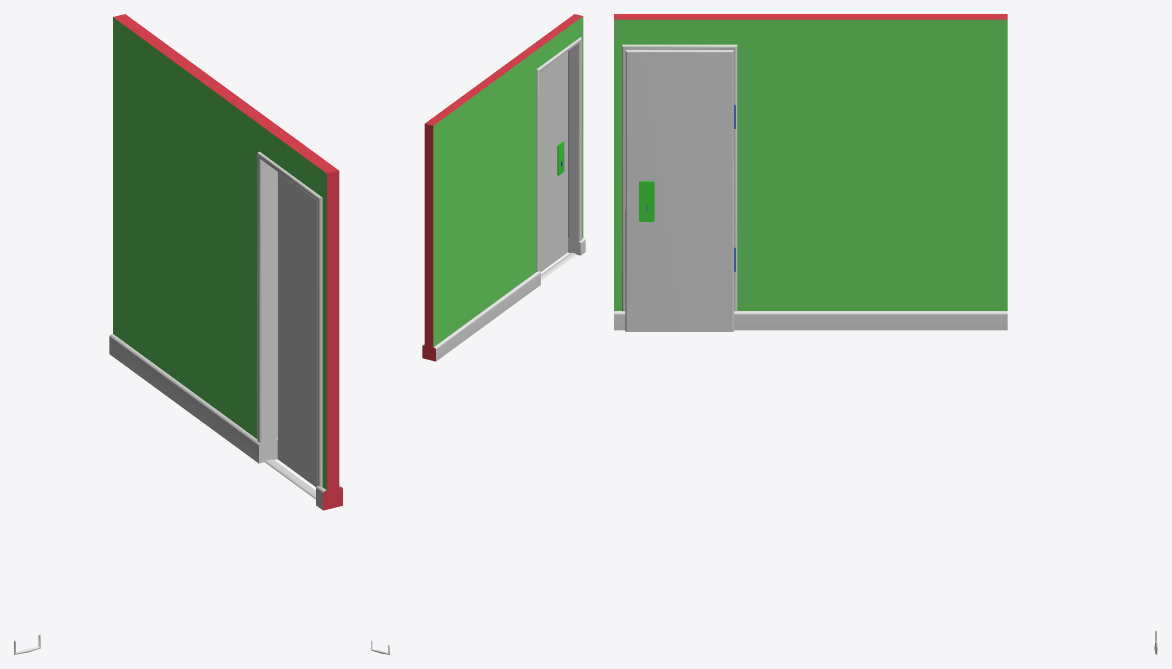
Rendered from wall_door_right.fbx.
3 views of the same model, side by side, from view 1: azimuth 30°, elevation 25°; view 2: azimuth 150°, elevation 25°; view 3: azimuth 270°, elevation 25° (orthographic). The views are drawn at different scales.
Visible parts, largest first — view 1: wall_door_right, door.001; view 2: wall_door_right, door.001; view 3: wall_door_right, door.001.
Part boxes in pixels (bbox=[...]): wall_door_right: bbox=[109, 14, 342, 510]; door.001: bbox=[277, 172, 317, 487]; wall_door_right: bbox=[422, 14, 585, 361]; door.001: bbox=[540, 51, 567, 271]; wall_door_right: bbox=[614, 14, 1007, 330]; door.001: bbox=[625, 49, 735, 331].
Bounding box in the file's own units: 0.3175 × 5.36 × 4.14.
